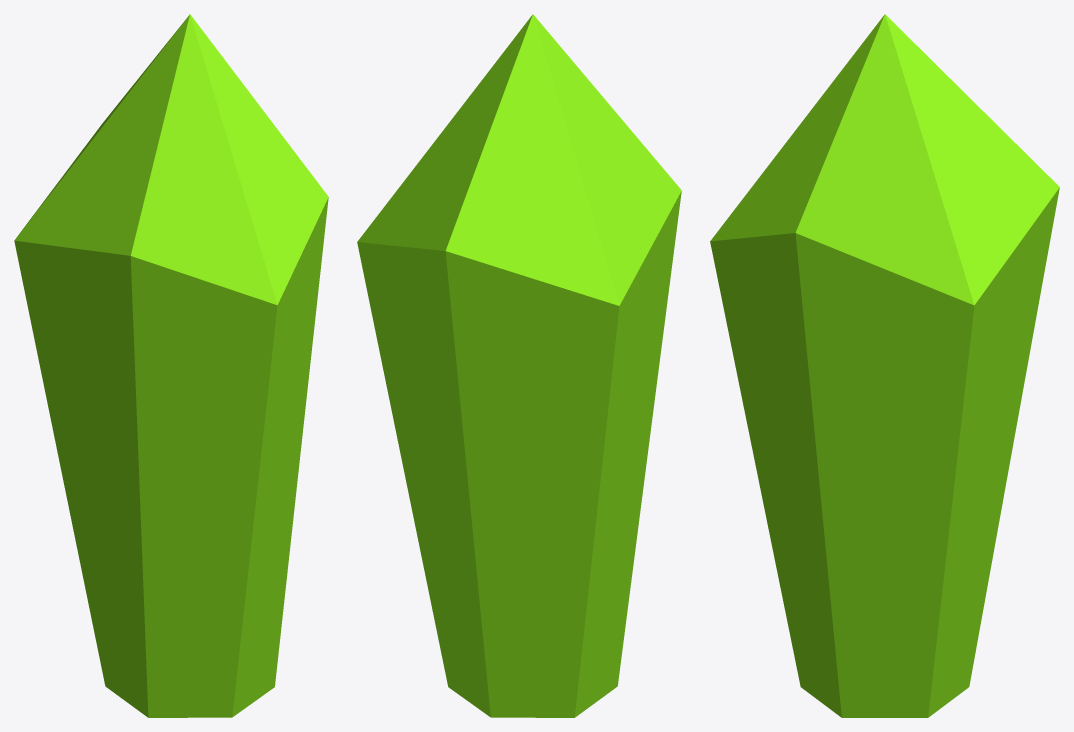
Rendered from Crystal-A04.fbx.
3 renders of one model, left to right at view 1: azimuth 30°, elevation 25°; view 2: azimuth 150°, elevation 25°; view 3: azimuth 270°, elevation 25°, orthographic.
Parts seen in each view (by area): view 1: Crystal-A04; view 2: Crystal-A04; view 3: Crystal-A04.
Part boxes in pixels (bbox=[...]): Crystal-A04: bbox=[14, 14, 328, 717]; Crystal-A04: bbox=[357, 14, 681, 717]; Crystal-A04: bbox=[710, 14, 1059, 717].
Size of the model in its own units: 32.74 by 80.23 by 37.79.
